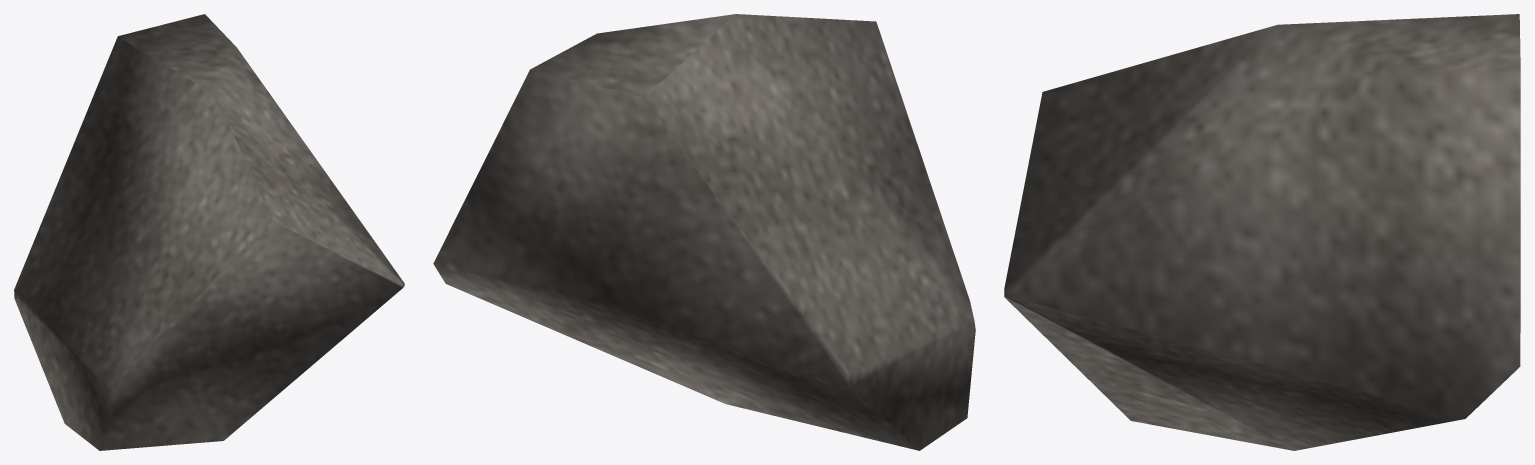
The model's file is cliff_corner_0.glb.
3 views of the same model, side by side, from view 1: azimuth 30°, elevation 25°; view 2: azimuth 150°, elevation 25°; view 3: azimuth 270°, elevation 25° (orthographic). The views are drawn at different scales.
Parts seen in each view (by area): view 1: cliff_corner_0; view 2: cliff_corner_0; view 3: cliff_corner_0.
Boxes of the visible parts, <box> form: cliff_corner_0: <box>14,14,404,450</box>; cliff_corner_0: <box>433,14,975,450</box>; cliff_corner_0: <box>1004,14,1520,450</box>.
Bounding box in the file's own units: 5.36 × 5.02 × 5.49.
1 material, 1 textured.
